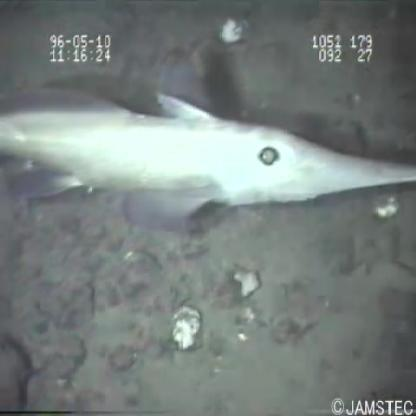Bio: (1, 81, 416, 226)
